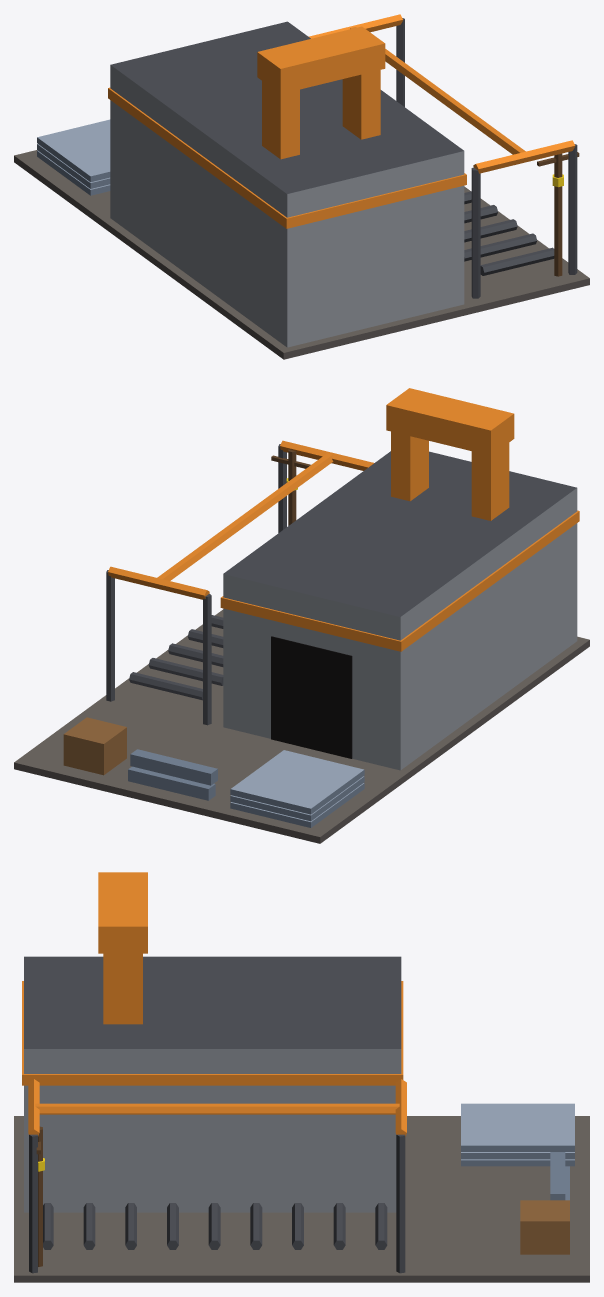
File: fabricator.glb
3 renders of one model, top to bottom at view 1: azimuth 30°, elevation 25°; view 2: azimuth 150°, elevation 25°; view 3: azimuth 270°, elevation 25°, orthographic. The views are drawn at different scales.
Visible parts, largest first — view 1: fabricator; view 2: fabricator; view 3: fabricator.
Part boxes in pixels (x1=…): fabricator: x1=14, y1=14, x2=589, y2=359; fabricator: x1=14, y1=388, x2=589, y2=843; fabricator: x1=14, y1=872, x2=589, y2=1282.
Size of the model in its own units: 3.8 by 3 by 5.8.
